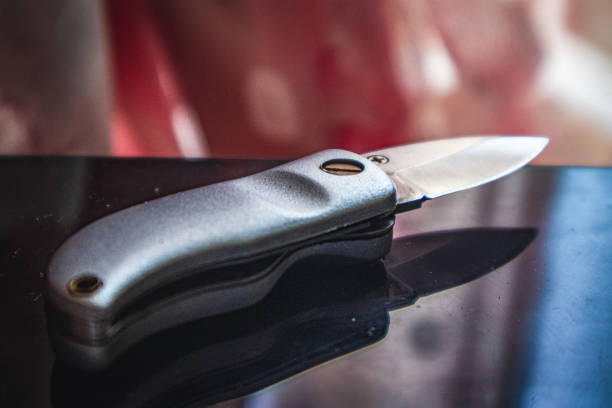knife: (42, 134, 550, 372), (47, 222, 542, 408)
